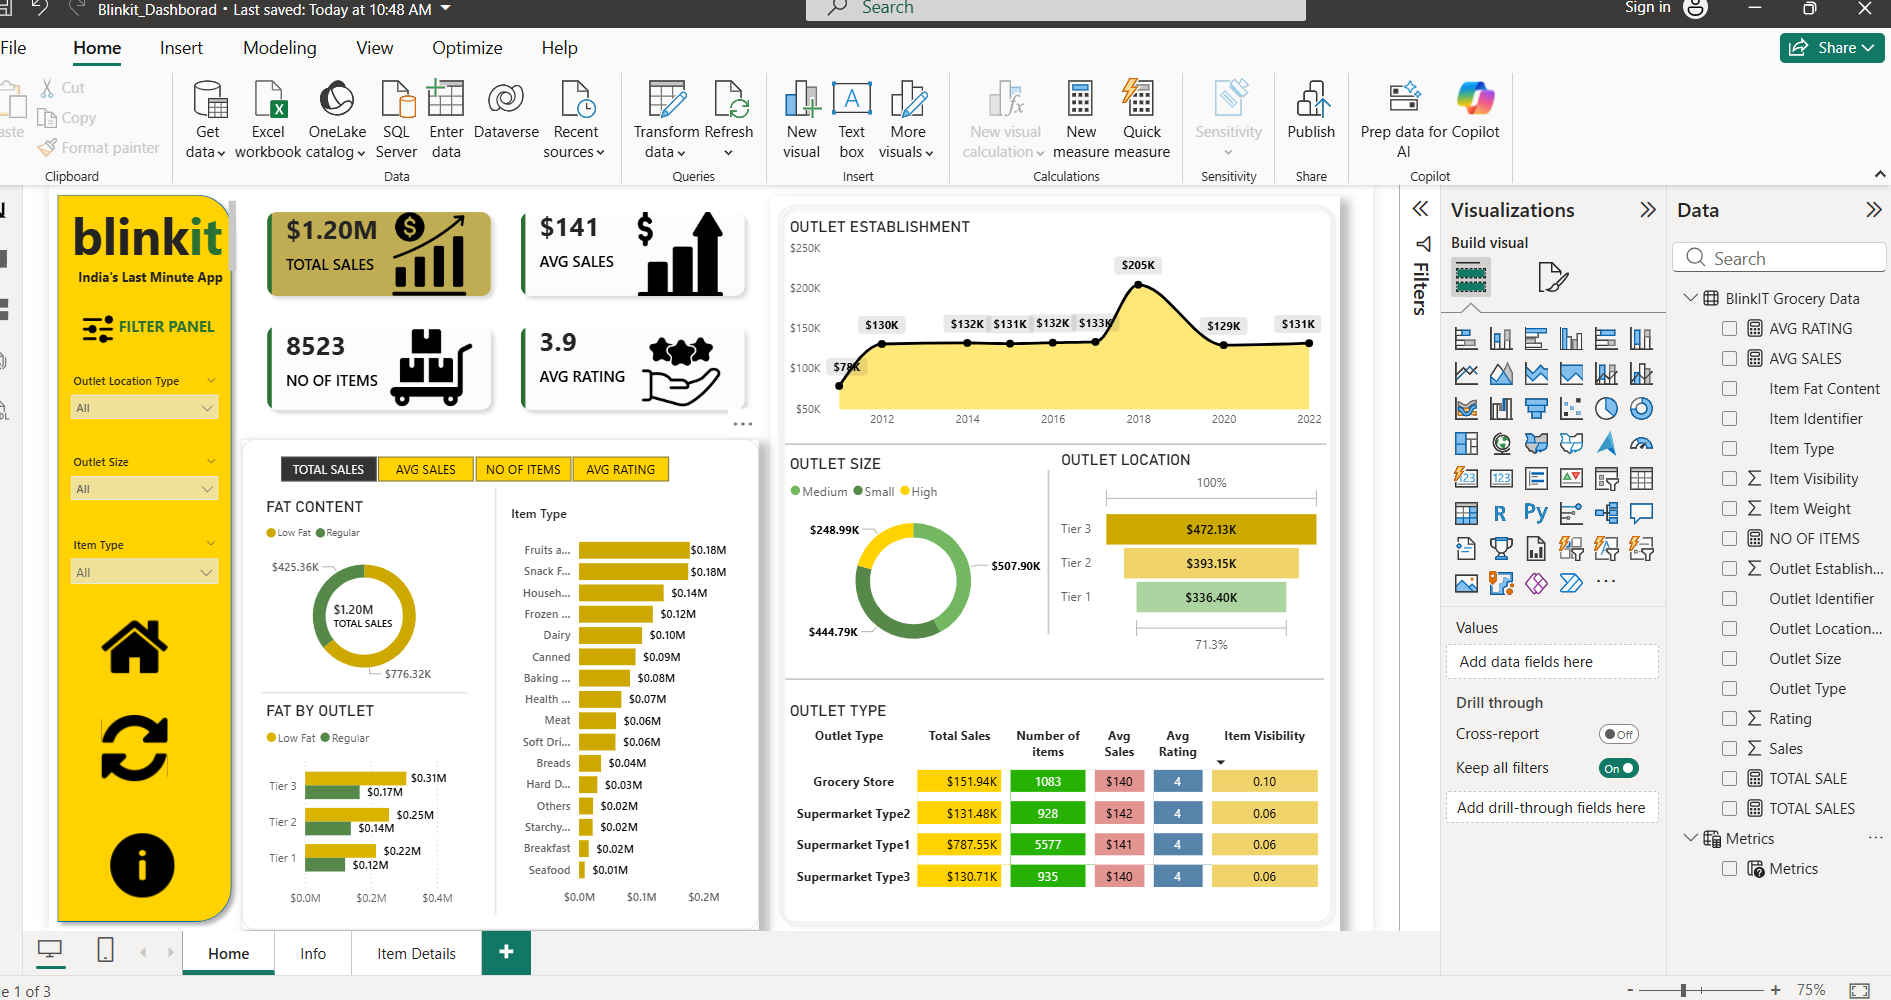

This screenshot's page, from the dashboard's own definition file:
{"tool":"powerbi","page":{"name":"Home","canvas":[1420,800],"ordinal":0},"visuals":[{"type":"shape","box":[0,1,205,798],"z":0},{"type":"textbox","box":[13.7,12.2,191.8,91.3],"z":1000},{"type":"textbox","box":[14,84,178.1,38],"z":2000},{"type":"cardVisual","fields":{"Data":["BlinkIT Grocery Data.TOTAL SALES","BlinkIT Grocery Data.AVG SALES","BlinkIT Grocery Data.NO OF ITEMS","BlinkIT Grocery Data.AVG RATING"]},"box":[205,0,570,270],"z":3000},{"type":"textbox","box":[70,135,122,38],"z":4000},{"type":"image","box":[35,135,35,38],"z":5000},{"type":"areaChart","title":" OUTLET ESTABLISHMENT","fields":{"Category":["BlinkIT Grocery Data.Outlet Establishment Year"],"Y":["BlinkIT Grocery Data.TOTAL SALES"]},"box":[789,35,580,235],"z":6000},{"type":"shape","box":[789,270,580.4,17],"z":7000},{"type":"donutChart","title":"OUTLET SIZE","fields":{"Y":["BlinkIT Grocery Data.TOTAL SALES"],"Category":["BlinkIT Grocery Data.Outlet Size"]},"box":[789,288.2,275,224],"z":8000},{"type":"shape","box":[1064,305,15,176],"z":9000},{"type":"funnel","title":"OUTLET LOCATION","fields":{"Category":["BlinkIT Grocery Data.Outlet Location Type"],"Y":["Sum(BlinkIT Grocery Data.Sales)"]},"box":[1080,284,289,224],"z":10000},{"type":"shape","box":[790,518,578,25],"z":11000},{"type":"pivotTable","title":"OUTLET TYPE","fields":{"Rows":["BlinkIT Grocery Data.Outlet Type"],"Values":["BlinkIT Grocery Data.TOTAL SALES","BlinkIT Grocery Data.NO OF ITEMS","BlinkIT Grocery Data.AVG SALES","BlinkIT Grocery Data.AVG RATING","Avg(BlinkIT Grocery Data.Item Visibility)"]},"box":[790,553,580,217.6],"z":12000},{"type":"shape","box":[774,12.5,611.1,788],"z":13000},{"type":"barChart","title":" Item Type","fields":{"Y":["BlinkIT Grocery Data.TOTAL SALES"],"Category":["BlinkIT Grocery Data.Item Type"]},"box":[490.3,343.1,258.3,438.9],"z":14000},{"type":"donutChart","title":"FAT CONTENT","fields":{"Y":["BlinkIT Grocery Data.TOTAL SALES"],"Category":["BlinkIT Grocery Data.Item Fat Content"]},"box":[227.3,335.1,220.8,207.8],"z":15000},{"type":"clusteredBarChart","title":"FAT BY OUTLET","fields":{"Y":["BlinkIT Grocery Data.TOTAL SALES"],"Category":["BlinkIT Grocery Data.Outlet Location Type"],"Series":["BlinkIT Grocery Data.Item Fat Content"]},"box":[227.3,553.2,221,229],"z":16000},{"type":"slicer","fields":{"Values":["Metrics.Metrics"]},"box":[223,284,466,39],"z":17000},{"type":"cardVisual","fields":{"Data":["BlinkIT Grocery Data.TOTAL SALES"]},"box":[288.3,427.3,107.8,67.5],"z":18000},{"type":"shape","box":[227.6,534.8,221.2,19.1],"z":19000},{"type":"shape","box":[467.9,324.7,22.3,458.4],"z":20000},{"type":"shape","box":[206,272,555,527],"z":21000},{"type":"slicer","fields":{"Values":["BlinkIT Grocery Data.Outlet Location Type"]},"box":[14,197.5,178.2,73.4],"z":22000},{"type":"slicer","fields":{"Values":["BlinkIT Grocery Data.Outlet Size"]},"box":[14,284.8,178.2,73.4],"z":23000},{"type":"slicer","fields":{"Values":["BlinkIT Grocery Data.Item Type"]},"box":[13,372,178,73],"z":24000},{"type":"actionButton","box":[52,564,79,79],"z":25000},{"type":"actionButton","box":[52,456,79,79],"z":26000},{"type":"actionButton","box":[61.1,690.3,77,79],"z":27000}]}

Visuals, with their boxes on the page's 1420x800 design canvas (x1, y1, x2, y2). These are canvas units, not pixel positions in the 1891x1000 screenshot, which may show the page scaled, cropped or inside an application window:
shape: locate(0, 1, 205, 799)
textbox: locate(14, 12, 206, 104)
textbox: locate(14, 84, 192, 122)
cardVisual - BlinkIT Grocery Data.TOTAL SALES x BlinkIT Grocery Data.AVG SALES: locate(205, 0, 775, 270)
textbox: locate(70, 135, 192, 173)
image: locate(35, 135, 70, 173)
" OUTLET ESTABLISHMENT" areaChart: locate(789, 35, 1369, 270)
shape: locate(789, 270, 1369, 287)
"OUTLET SIZE" donutChart: locate(789, 288, 1064, 512)
shape: locate(1064, 305, 1079, 481)
"OUTLET LOCATION" funnel: locate(1080, 284, 1369, 508)
shape: locate(790, 518, 1368, 543)
"OUTLET TYPE" pivotTable: locate(790, 553, 1370, 771)
shape: locate(774, 12, 1385, 800)
" Item Type" barChart: locate(490, 343, 749, 782)
"FAT CONTENT" donutChart: locate(227, 335, 448, 543)
"FAT BY OUTLET" clusteredBarChart: locate(227, 553, 448, 782)
slicer - Metrics.Metrics: locate(223, 284, 689, 323)
cardVisual - BlinkIT Grocery Data.TOTAL SALES: locate(288, 427, 396, 495)
shape: locate(228, 535, 449, 554)
shape: locate(468, 325, 490, 783)
shape: locate(206, 272, 761, 799)
slicer - BlinkIT Grocery Data.Outlet Location Type: locate(14, 198, 192, 271)
slicer - BlinkIT Grocery Data.Outlet Size: locate(14, 285, 192, 358)
slicer - BlinkIT Grocery Data.Item Type: locate(13, 372, 191, 445)
actionButton: locate(52, 564, 131, 643)
actionButton: locate(52, 456, 131, 535)
actionButton: locate(61, 690, 138, 769)
